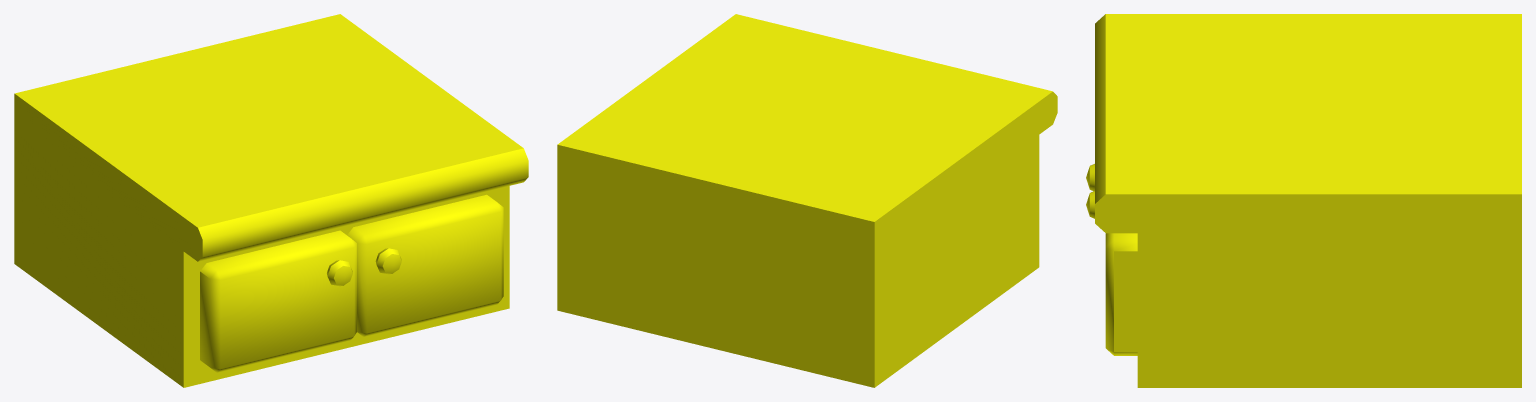
The model's file is kitchencounter_straight_B.gltf.
The picture shows the model from 3 angles, left to right: view 1: azimuth 30°, elevation 25°; view 2: azimuth 150°, elevation 25°; view 3: azimuth 270°, elevation 25°; orthographic projection. The views are drawn at different scales.
Parts seen in each view (by area): view 1: kitchencounter_straight_B; view 2: kitchencounter_straight_B; view 3: kitchencounter_straight_B.
Part boxes in pixels (x1,y1,x2,y2): kitchencounter_straight_B: (14, 14, 528, 387); kitchencounter_straight_B: (557, 14, 1057, 387); kitchencounter_straight_B: (1086, 14, 1521, 387).
Size of the model in its own units: 2 by 1 by 2.04.
Materials: 1 (1 with a texture image).
